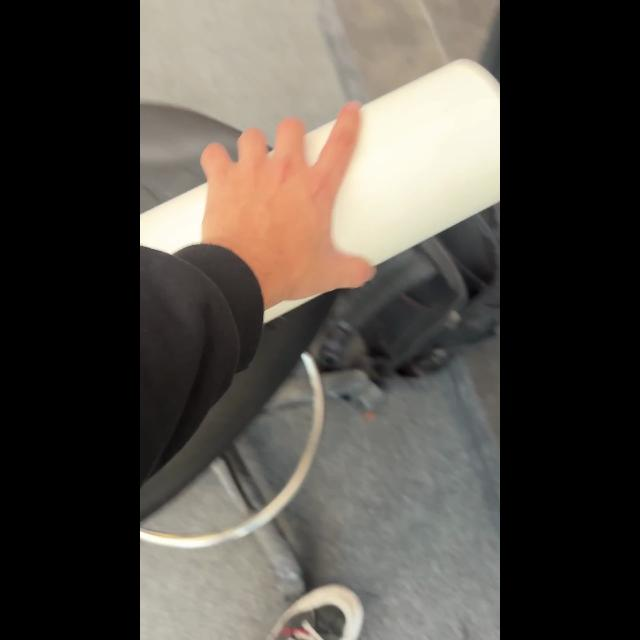CORAL: (140, 58, 500, 322)
